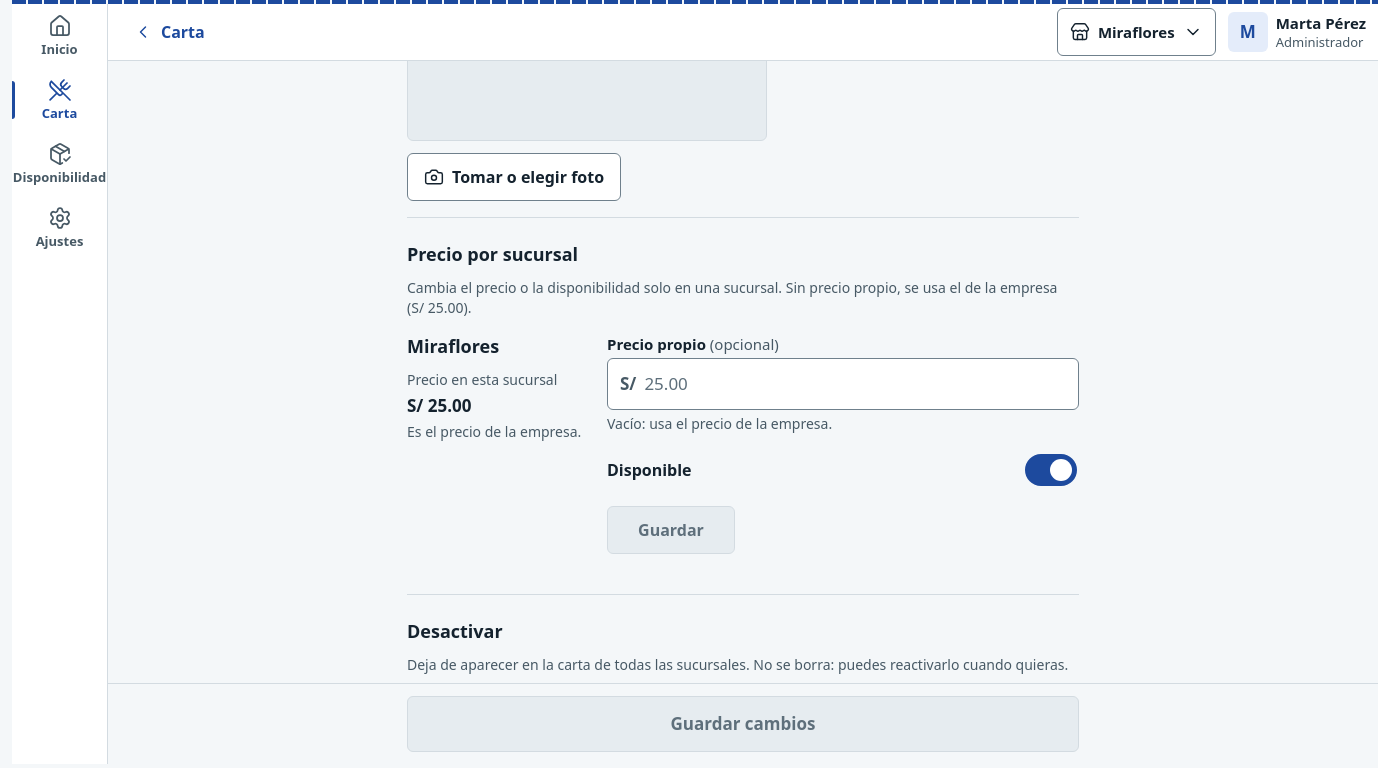
Test: precio por sucursal: guardar una fila › un precio de 0 no se envía y dice qué escribir
(page scrolled)
In the field named "Precio propio en Miraflores": (857, 384) [636, 360, 1078, 408], type "0"
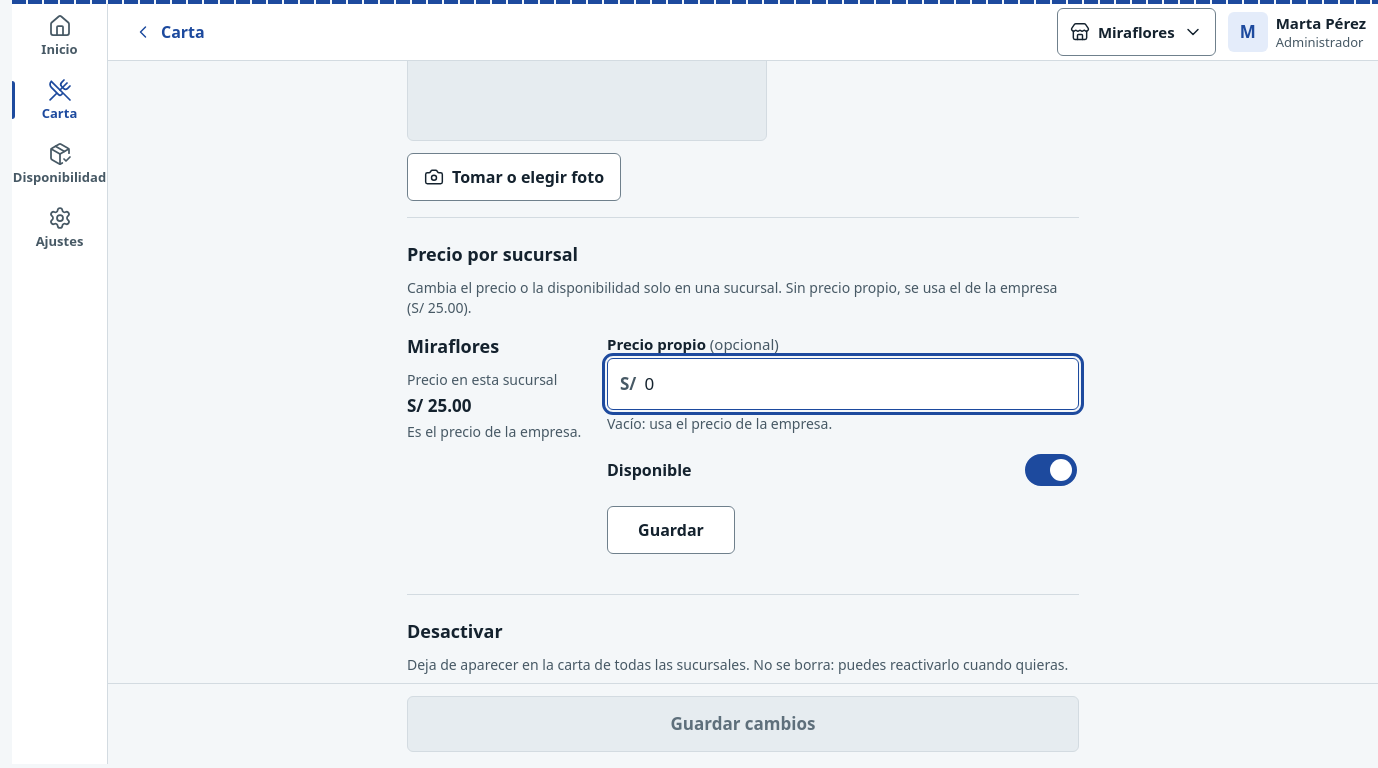
Click the button with aria-label "Guardar Miraflores": (671, 530) [607, 506, 735, 554]
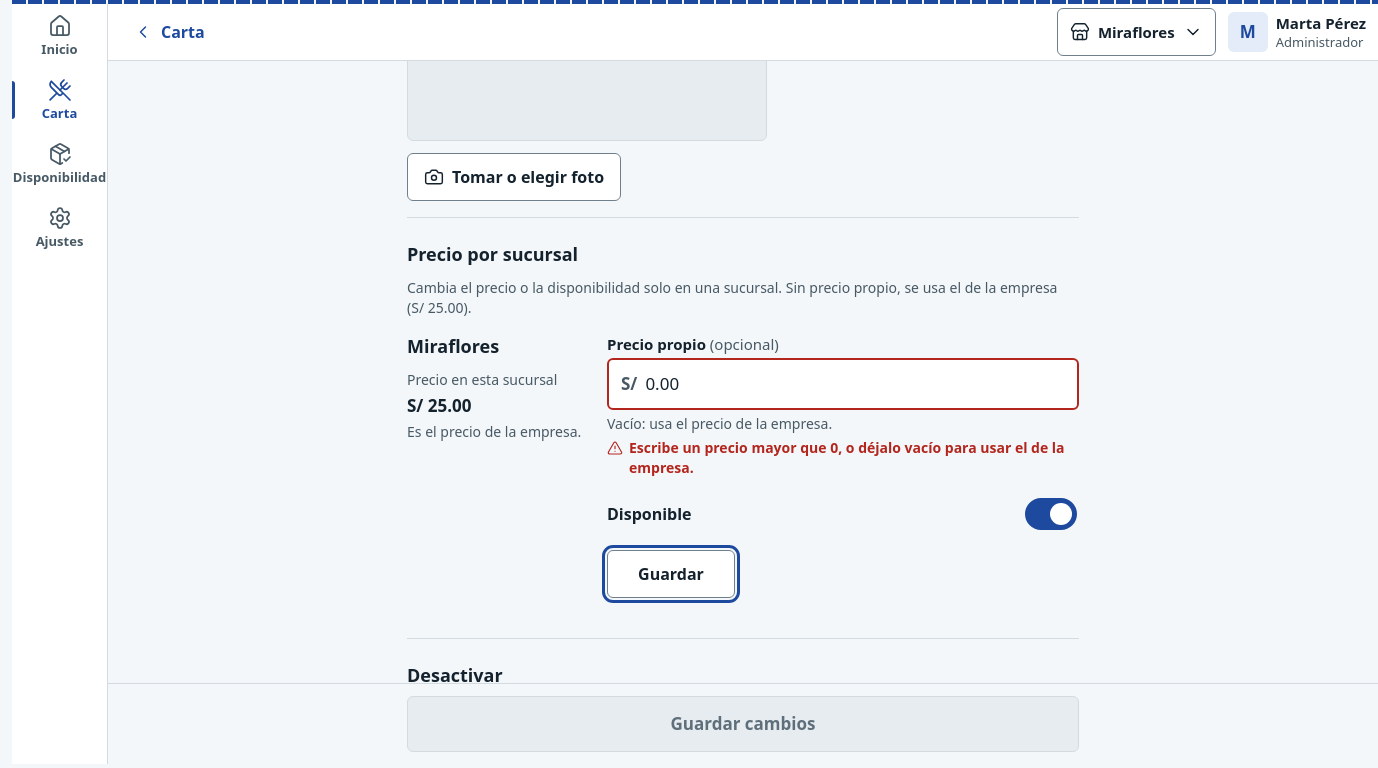
Check: the text "Escribe un precio mayor que 0, o déjalo vacío" is shown, box [629, 438, 1065, 477]
// Al corregirlo, el error desaparece.
In the field named "Precio propio en Miraflores": (857, 384) [637, 360, 1077, 408], type "5"
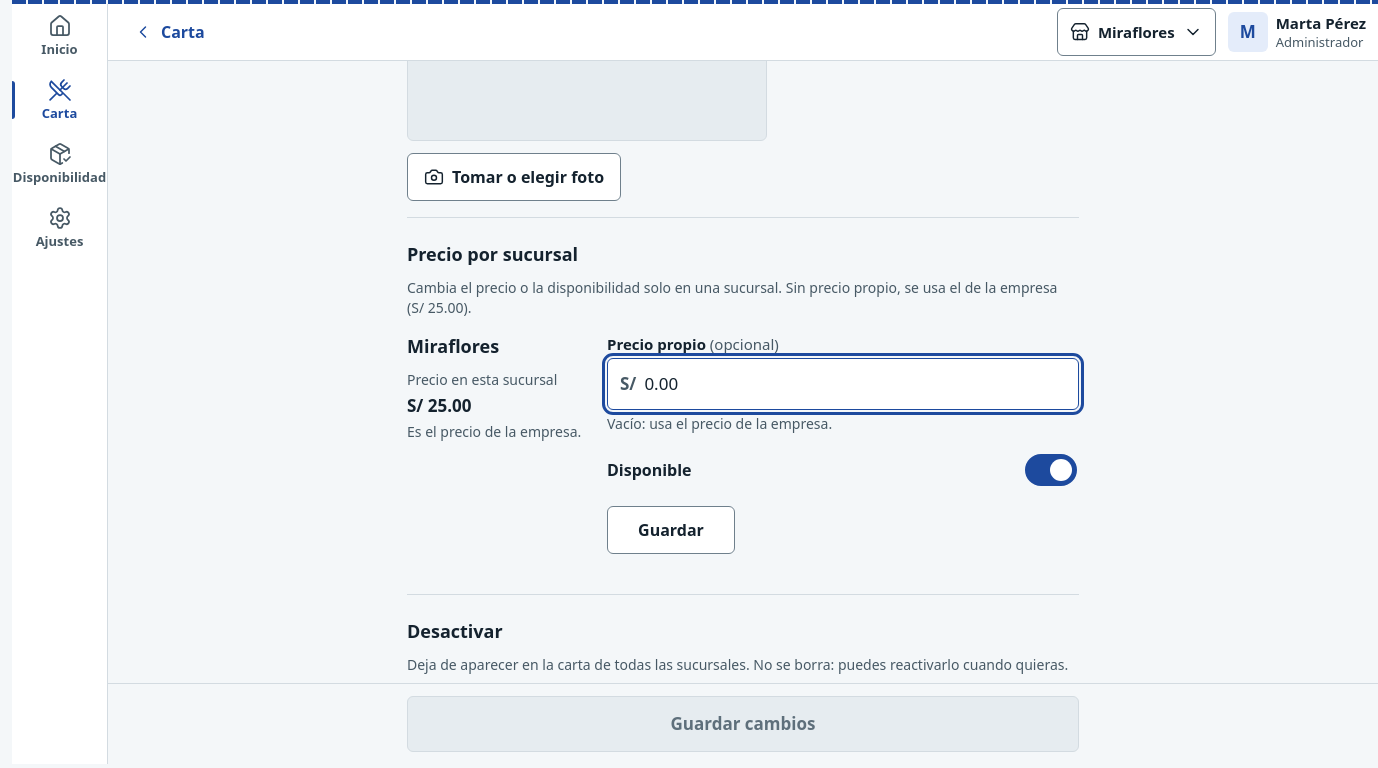
Check: the text "Escribe un precio mayor que 0" is gone
